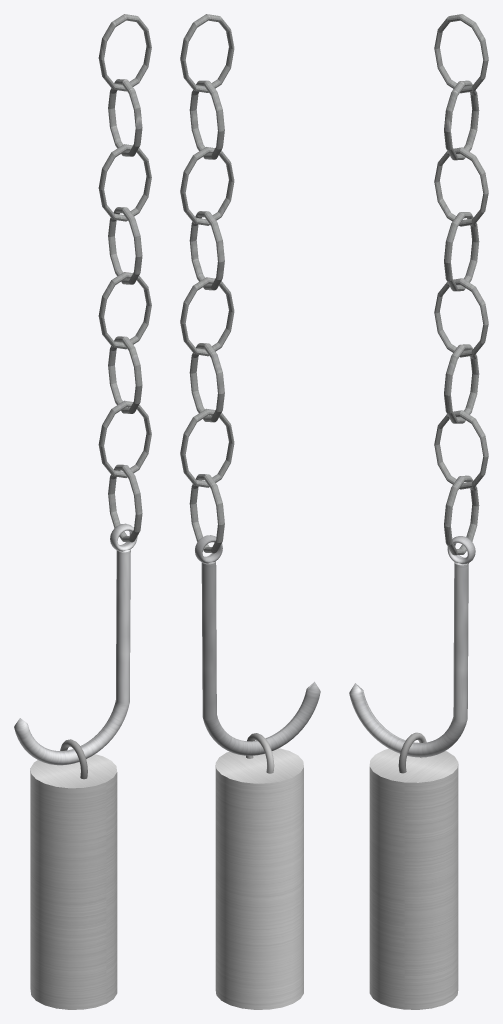
Rendered from Cuckoo3.obj.
3 views of the same model, side by side, from view 1: azimuth 30°, elevation 25°; view 2: azimuth 210°, elevation 25°; view 3: azimuth 330°, elevation 25° (orthographic). The views are drawn at different scales.
Parts seen in each view (by area): view 1: Cuckoo3; view 2: Cuckoo3; view 3: Cuckoo3.
Part boxes in pixels (x1,y1,x2,y2): Cuckoo3: (14, 14, 151, 1009); Cuckoo3: (180, 14, 320, 1009); Cuckoo3: (349, 14, 488, 1009).
Size of the model in its own units: 0.5286 by 3.61 by 0.2949.
